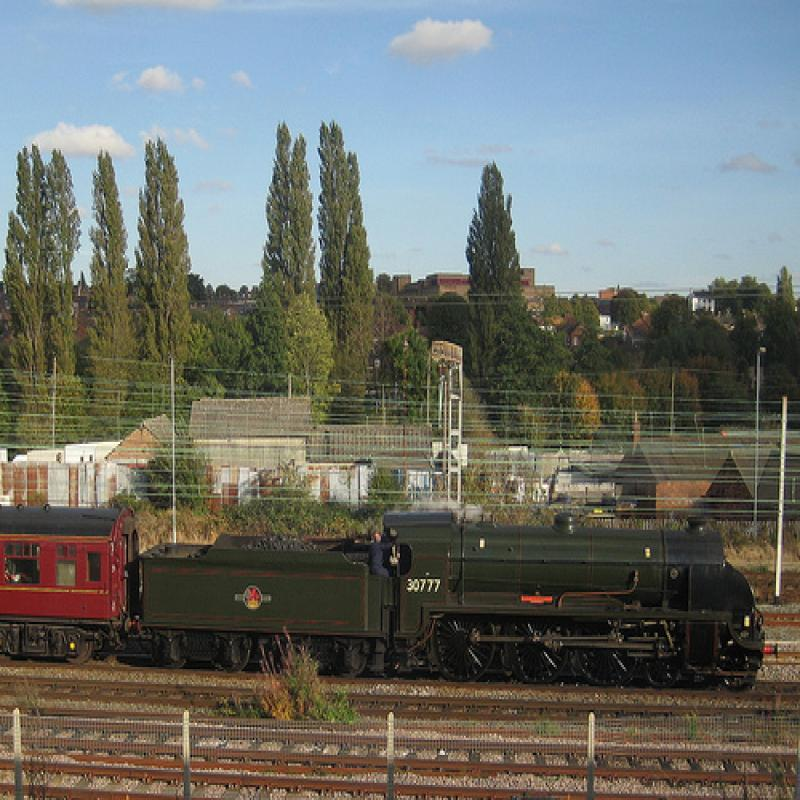train: (3, 505, 782, 696)
